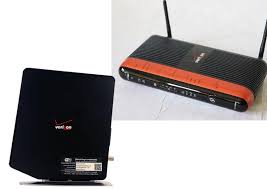Verizon Router: (115, 1, 267, 116)
